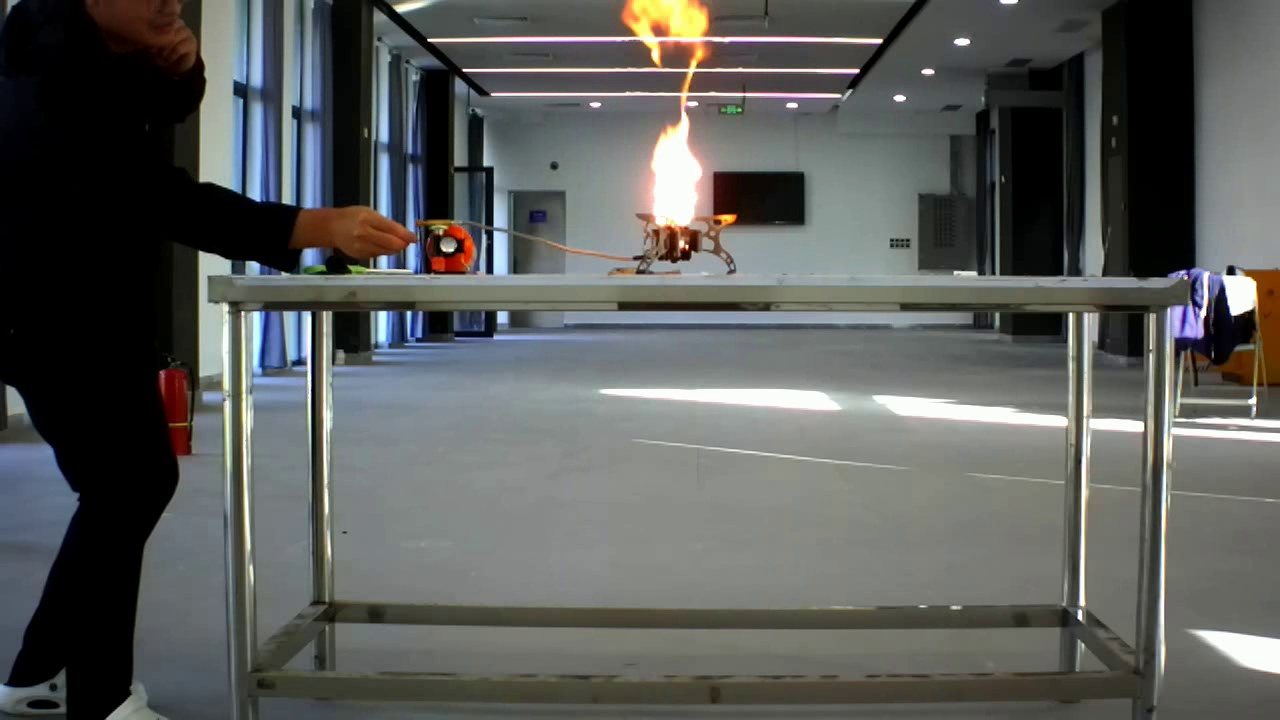Fire: (612, 0, 741, 267)
